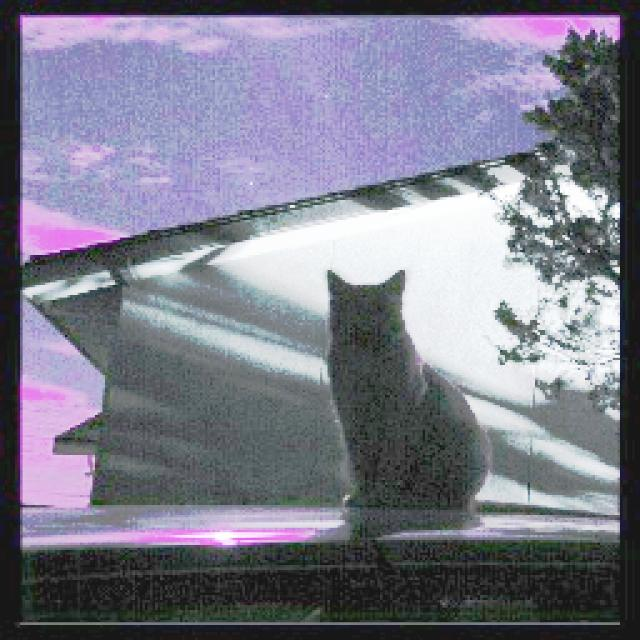cat: (314, 259, 498, 541)
